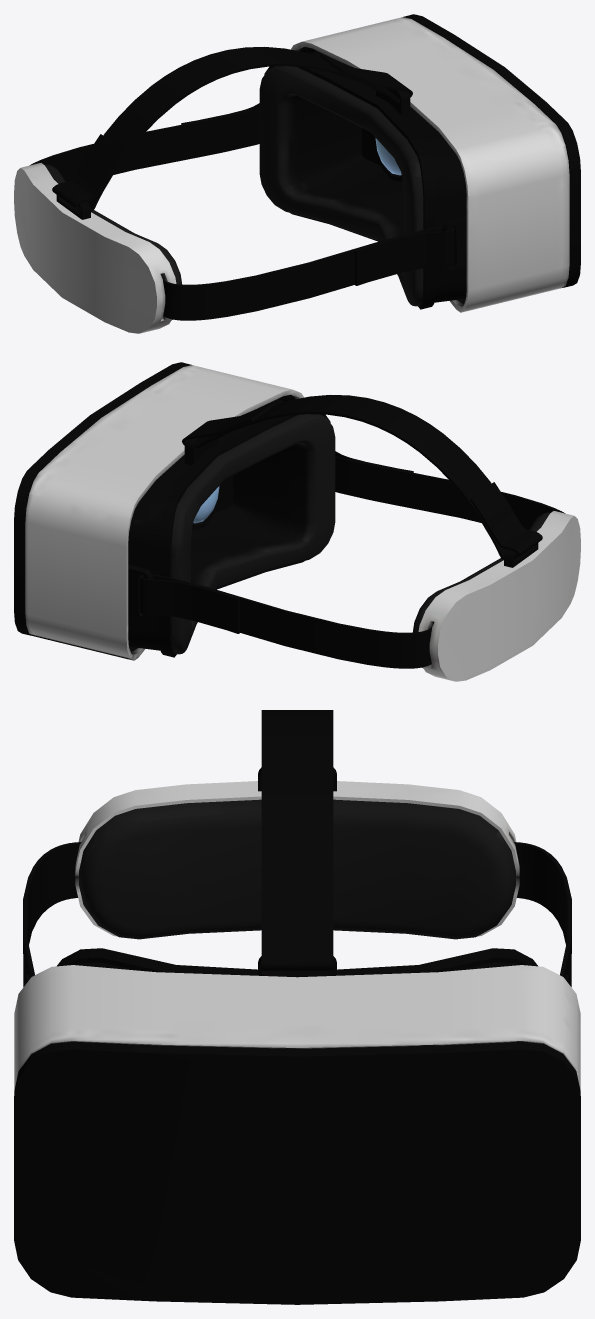
Rendered from VRGoggles.glb.
The picture shows the model from 3 angles, top to bottom: view 1: azimuth 30°, elevation 25°; view 2: azimuth 150°, elevation 25°; view 3: azimuth 270°, elevation 25°; orthographic projection. The views are drawn at different scales.
Visible parts, largest first — view 1: VR_Goggles; view 2: VR_Goggles; view 3: VR_Goggles.
Part boxes in pixels (left/top/right/bottom): VR_Goggles: left=14, top=14, right=580, bottom=333; VR_Goggles: left=14, top=362, right=580, bottom=681; VR_Goggles: left=14, top=710, right=580, bottom=1304.
Bounding box in the file's own units: 5.79 × 2.92 × 4.14.
Materials: 1 (1 with a texture image).
